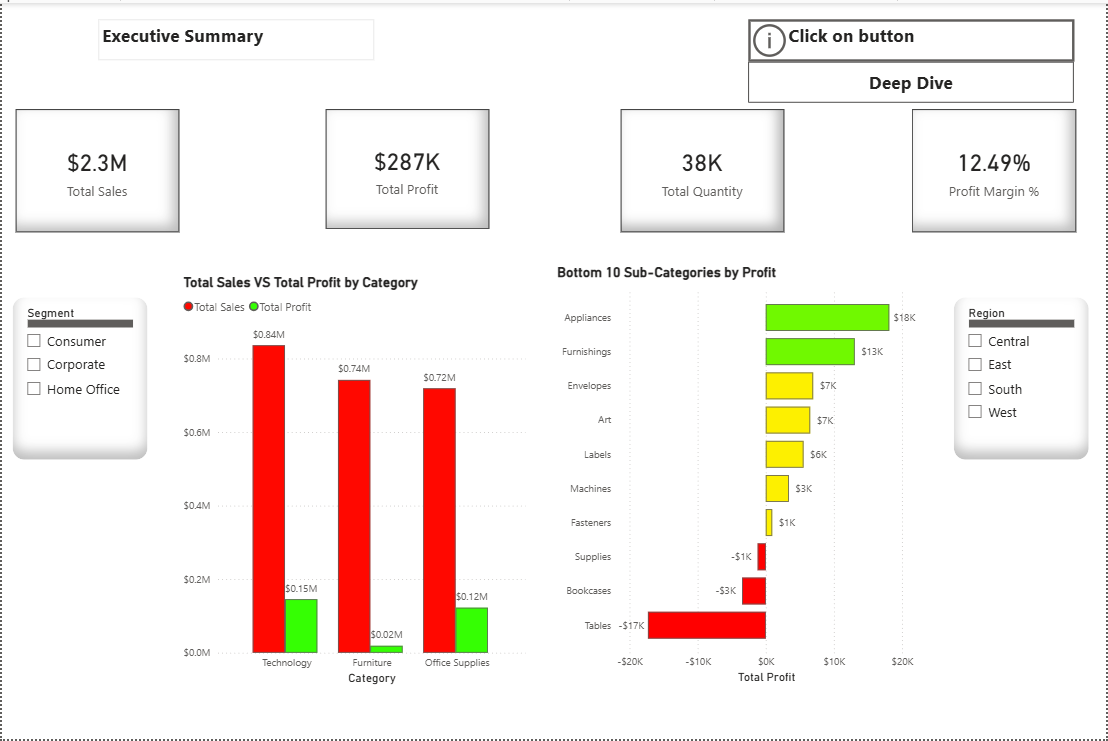

The dashboard page shown, as its layout file describes it:
{"tool":"powerbi","page":{"name":"Executive Summary","canvas":[1350,900],"ordinal":0},"visuals":[{"type":"card","fields":{"Values":["Sum(SampleSuperstoreProject.Profit)"]},"box":[396.5,130.3,199.7,146.2],"z":0},{"type":"card","fields":{"Values":["Sum(SampleSuperstoreProject.Sales)"]},"box":[17.4,130.3,199.7,150.5],"z":1000},{"type":"card","fields":{"Values":["measure.Profit Margin %"]},"box":[1112.9,130.3,201.2,150.5],"z":2000},{"type":"card","fields":{"Values":["Sum(SampleSuperstoreProject.Quantity)"]},"box":[756.9,130.3,199.7,150.5],"z":3000},{"type":"slicer","fields":{"Values":["SampleSuperstoreProject.Segment"]},"box":[11.6,358.9,166.4,199.7],"z":4000},{"type":"textbox","box":[117.7,19.9,337.8,50.4],"z":5000},{"type":"clusteredColumnChart","title":"Total Sales VS Total Profit by Category","fields":{"Category":["SampleSuperstoreProject.Category"],"Y":["Sum(SampleSuperstoreProject.Sales)","Sum(SampleSuperstoreProject.Profit)"]},"box":[217.1,331.4,428.4,506.5],"z":6000},{"type":"slicer","fields":{"Values":["SampleSuperstoreProject.Region"]},"box":[1163.6,358.9,166.4,199.7],"z":7000},{"type":"clusteredBarChart","title":"Bottom 10 Sub-Categories by Profit","fields":{"Category":["SampleSuperstoreProject.Sub_Category"],"Y":["Sum(SampleSuperstoreProject.Profit)"]},"box":[674.4,319.8,461.7,518.1],"z":8000},{"type":"pageNavigator","box":[912.5,71.8,398.9,50.4],"z":9000},{"type":"actionButton","box":[912.5,19.9,398.9,52],"z":10000},{"type":"textbox","box":[956.9,19.9,319.5,71.8],"z":11000}]}

Visuals, with their boxes in screenshot pixels (x1, y1, x2, y2), scaled from the page's 1350x900 canvas onto the 1108x741 screenshot:
card - Sum(SampleSuperstoreProject.Profit): region(325, 107, 489, 228)
card - Sum(SampleSuperstoreProject.Sales): region(14, 107, 178, 231)
card - measure.Profit Margin %: region(913, 107, 1079, 231)
card - Sum(SampleSuperstoreProject.Quantity): region(621, 107, 785, 231)
slicer - SampleSuperstoreProject.Segment: region(10, 295, 146, 460)
textbox: region(97, 16, 374, 58)
"Total Sales VS Total Profit by Category" clusteredColumnChart: region(178, 273, 530, 690)
slicer - SampleSuperstoreProject.Region: region(955, 295, 1092, 460)
"Bottom 10 Sub-Categories by Profit" clusteredBarChart: region(554, 263, 932, 690)
pageNavigator: region(749, 59, 1076, 101)
actionButton: region(749, 16, 1076, 59)
textbox: region(785, 16, 1048, 75)
